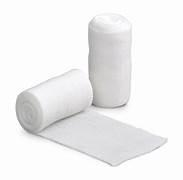cotton: (16, 70, 165, 165), (39, 109, 165, 165), (16, 70, 92, 131), (88, 13, 130, 106)
